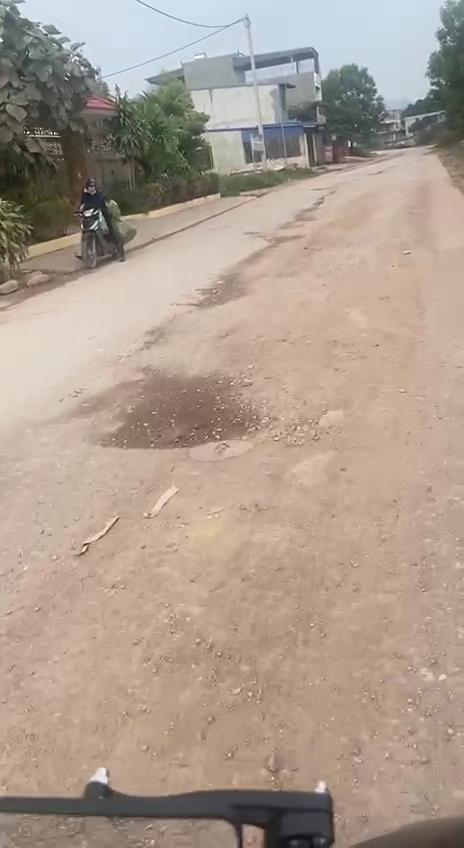pothole: (86, 376, 276, 452), (266, 372, 393, 451), (188, 267, 255, 315)
